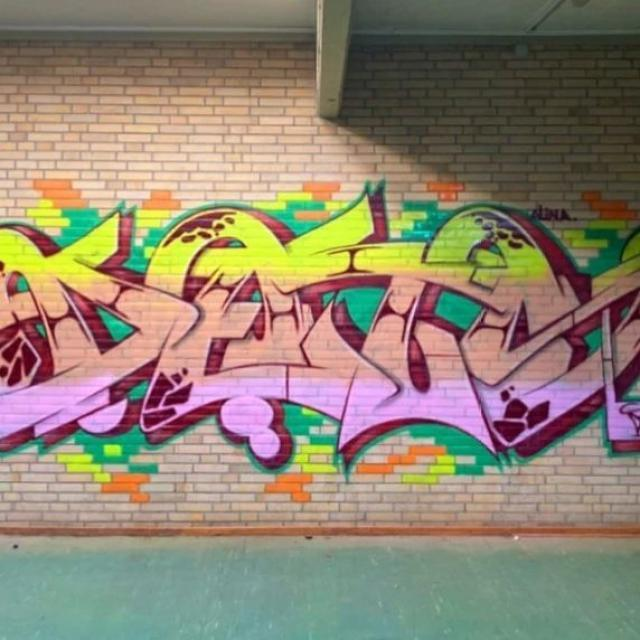-: (0, 193, 638, 512), (530, 194, 580, 233)
